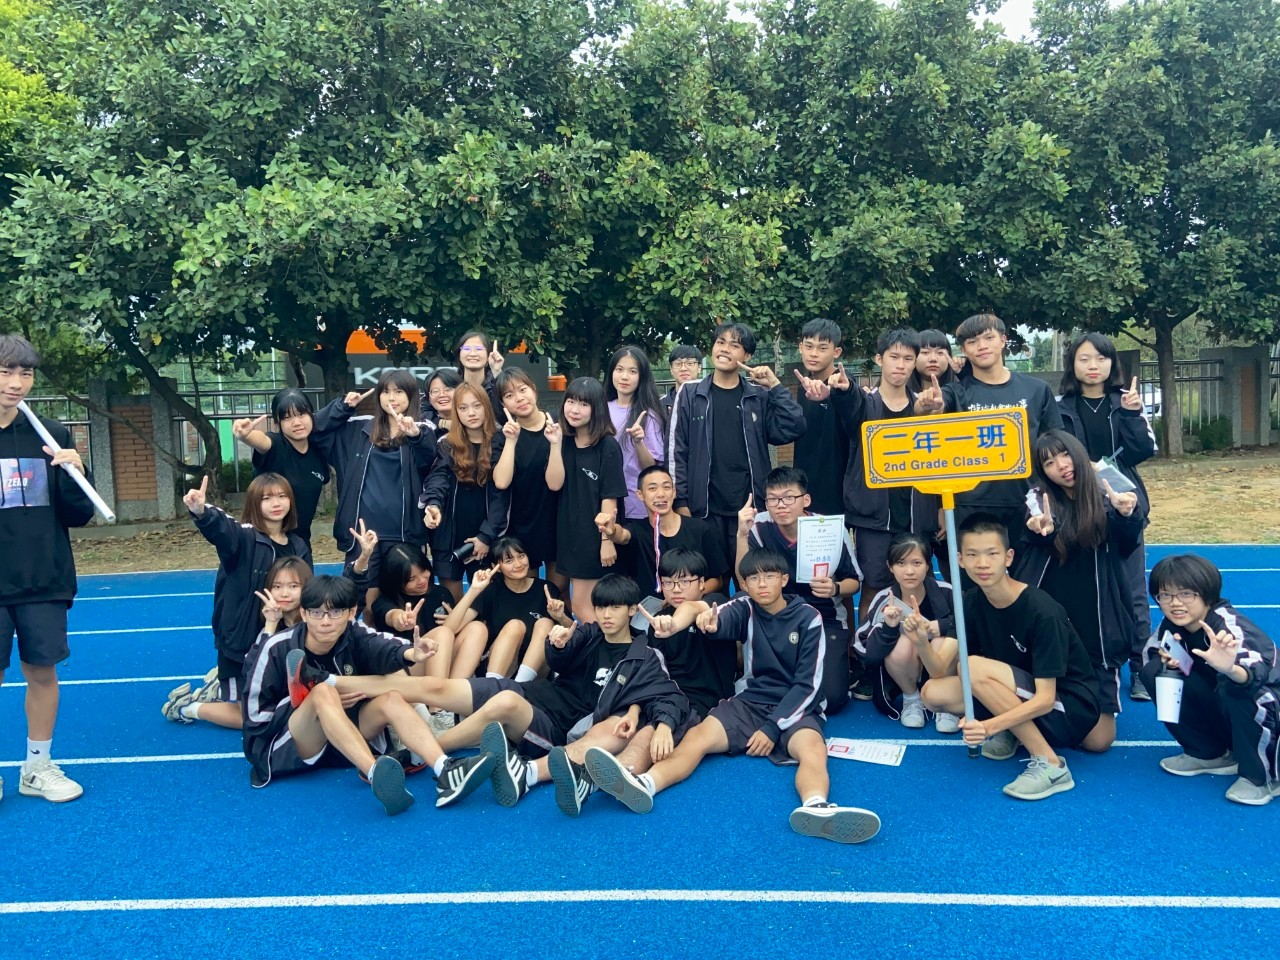people: (957, 526, 1100, 806), (257, 578, 422, 800), (709, 558, 842, 822), (2, 337, 73, 800), (1148, 566, 1273, 795), (1028, 435, 1148, 666), (869, 540, 968, 735), (218, 475, 302, 689), (689, 324, 778, 527), (775, 318, 864, 518), (542, 380, 618, 595), (544, 578, 646, 731), (946, 309, 1051, 451), (635, 558, 729, 715), (351, 371, 428, 551), (862, 326, 924, 546), (260, 389, 329, 577), (598, 340, 668, 517), (1058, 337, 1155, 460), (498, 373, 560, 546), (477, 542, 551, 680), (449, 386, 504, 535), (257, 560, 308, 715), (422, 367, 466, 540), (382, 547, 455, 637), (913, 329, 958, 420), (453, 329, 500, 397), (658, 347, 706, 409)
